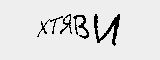В: (71, 13, 88, 38)
И: (93, 12, 120, 46)
Т: (48, 14, 64, 37)
Х: (32, 17, 50, 40)
Я: (59, 11, 73, 37)
